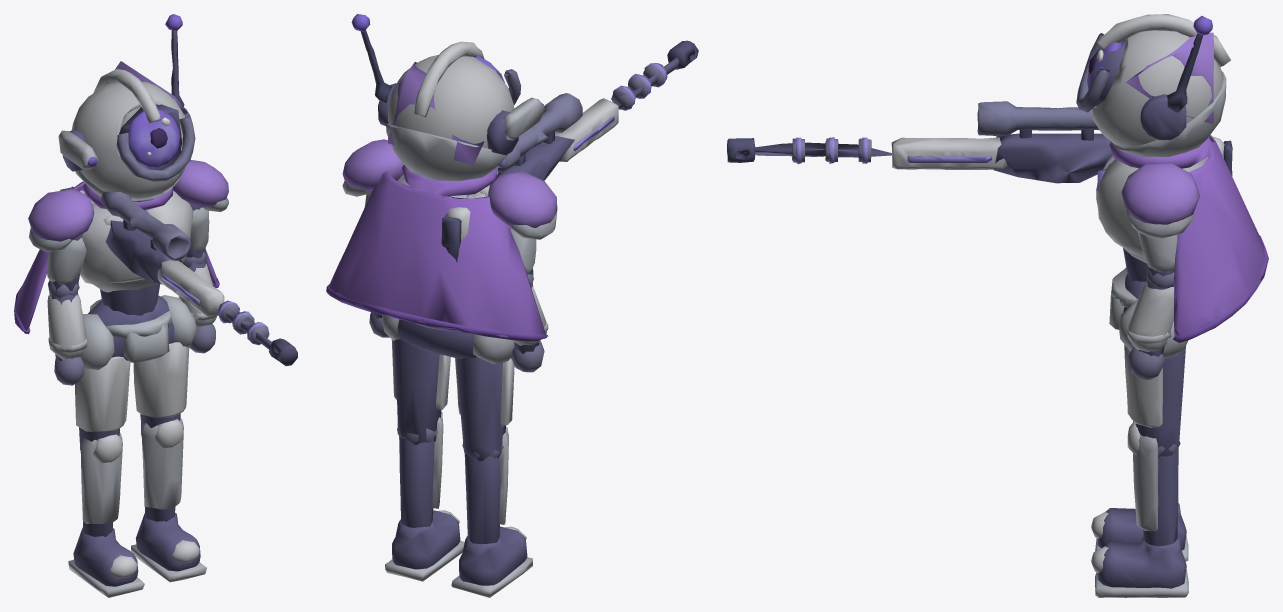
The model's file is sniper.glb.
3 renders of one model, left to right at view 1: azimuth 30°, elevation 25°; view 2: azimuth 150°, elevation 25°; view 3: azimuth 270°, elevation 25°, orthographic. The views are drawn at different scales.
Visible parts, largest first — view 1: head, chest, gun, shin_r, shin_l, pelvis, leg_r, leg_l, fore_r, head_glow, cape, arm_r (+3 smaller); view 2: cape, head, gun, shin_l, shin_r, chest, leg_r, leg_l, pelvis, fore_r, gun_glow, arm_r; view 3: head, gun, cape, shin_l, chest, leg_l, fore_l, shin_r, pelvis, arm_l, gun_glow, head_glow.
Boxes of the visible parts, box(x1,y1,x2,y2) form: head: box(58, 30, 195, 202); chest: box(28, 160, 228, 315); gun: box(60, 186, 297, 366); shin_r: box(68, 433, 144, 597); shin_l: box(131, 417, 206, 582); pelvis: box(80, 295, 196, 370); leg_r: box(75, 356, 130, 444); leg_l: box(133, 342, 189, 428); fore_r: box(47, 280, 86, 385); head_glow: box(87, 14, 182, 167); cape: box(14, 181, 219, 334); arm_r: box(47, 233, 86, 294); cape: box(326, 165, 548, 341); head: box(360, 30, 545, 180); gun: box(441, 40, 698, 262); shin_l: box(385, 411, 464, 581); shin_r: box(451, 426, 532, 597); chest: box(342, 139, 557, 239); leg_r: box(455, 357, 514, 461); leg_l: box(391, 339, 450, 445); pelvis: box(382, 315, 514, 364); fore_r: box(511, 274, 548, 372); gun_glow: box(498, 63, 666, 167); arm_r: box(510, 229, 536, 275); head: box(1076, 14, 1230, 157); gun: box(727, 101, 1232, 183); cape: box(1109, 135, 1268, 342); shin_l: box(1091, 422, 1188, 597); chest: box(1096, 154, 1204, 281); leg_l: box(1124, 344, 1185, 456); fore_l: box(1127, 269, 1174, 379); shin_r: box(1091, 412, 1188, 561); pelvis: box(1109, 267, 1188, 358); arm_l: box(1137, 231, 1177, 276); gun_glow: box(796, 137, 991, 164); head_glow: box(1087, 16, 1212, 90).
Size of the model in its own units: 0.5459 by 1.38 by 1.15.
